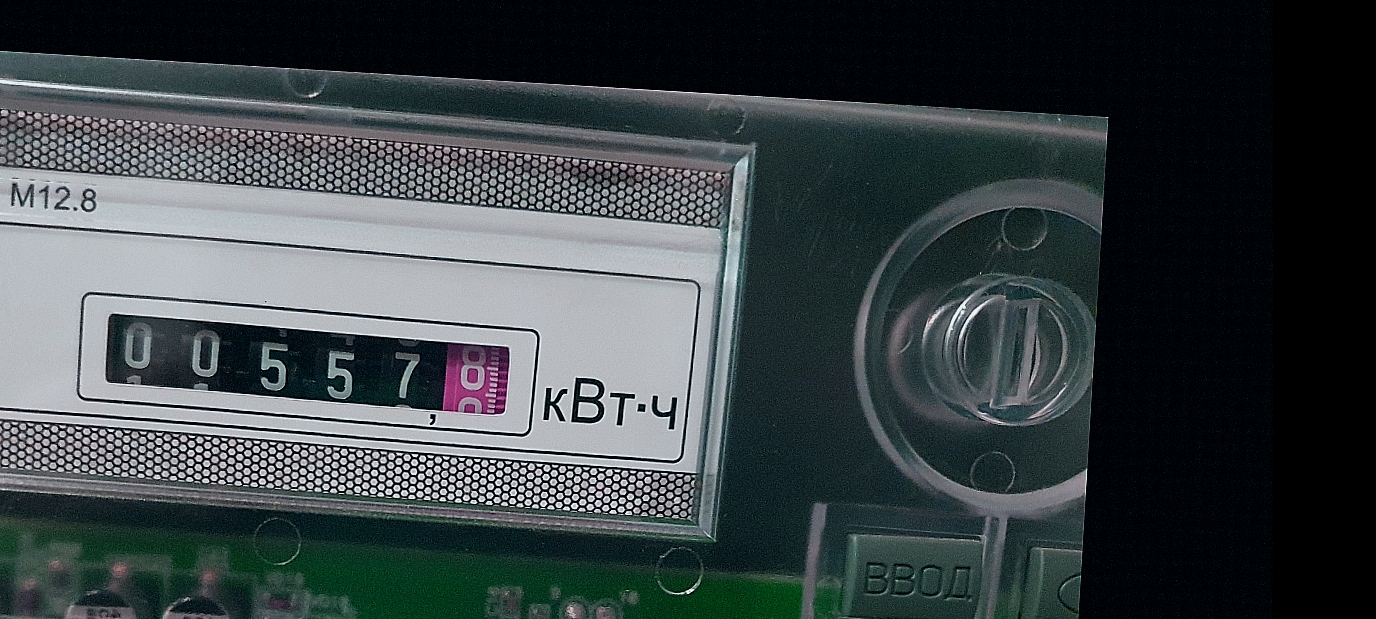0: (118, 315, 156, 373), (186, 325, 222, 379)
5: (319, 342, 360, 403), (253, 336, 291, 394)
7: (385, 345, 421, 402)
8: (457, 342, 487, 393)
screen: (69, 283, 544, 442)
